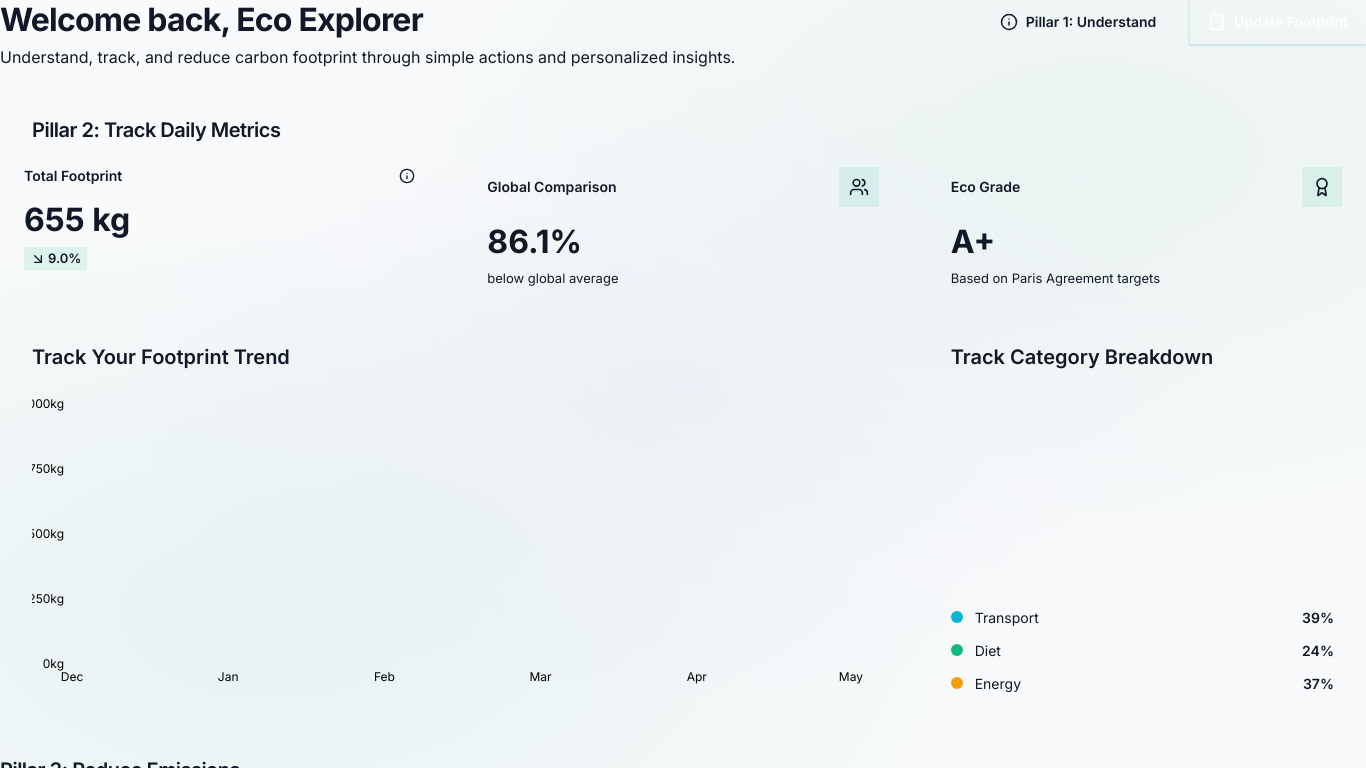
it: Dashboard Component › opens and closes the CarbonInfoModal
Click "Understand Equivalents"
Click the button "Pillar 1: Understand" at coordinates (1078, 22), box [982,0,1174,44]
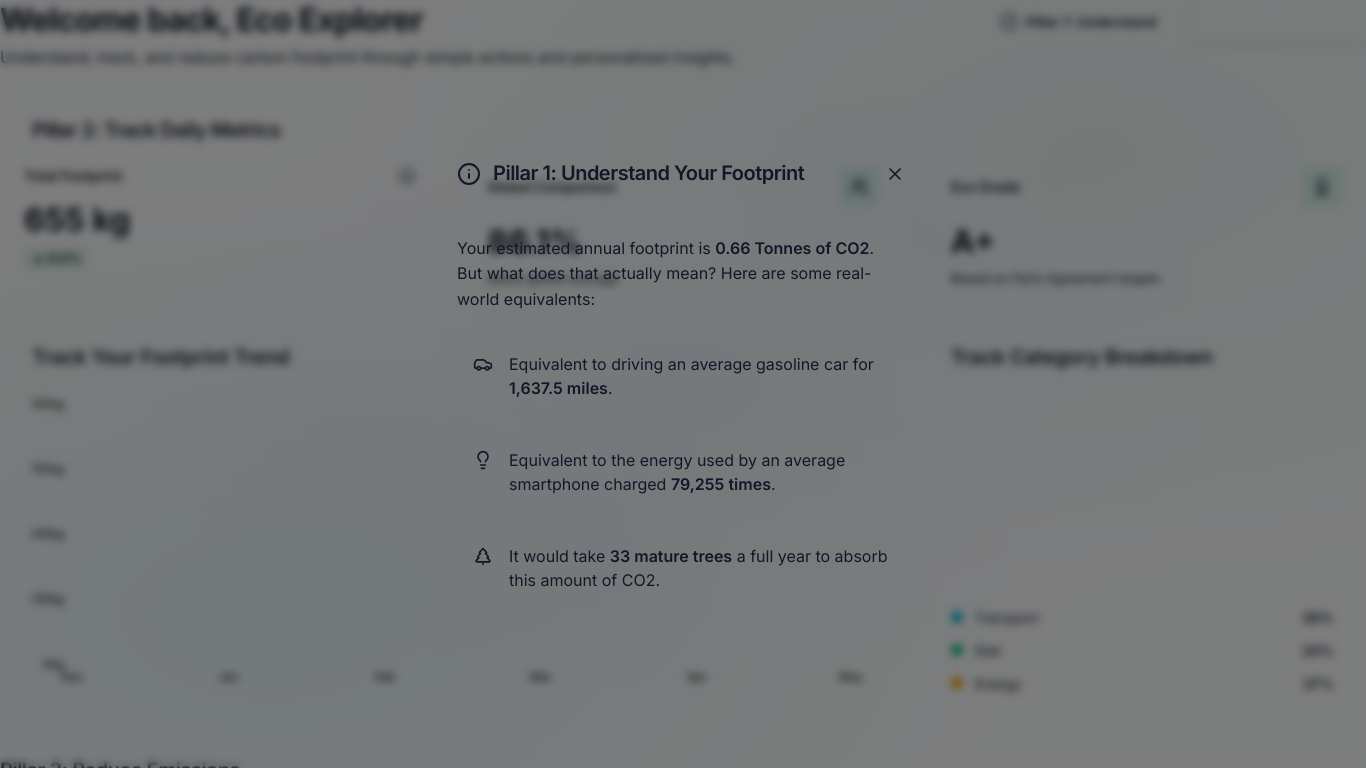
Expected: the dialog is shown
Expected: the heading "Pillar 1: Understand Your Footprint" is shown, [493,161,804,186]
Close modal
Click the button named "Close understand modal" at coordinates (895, 174), box [881,160,909,188]
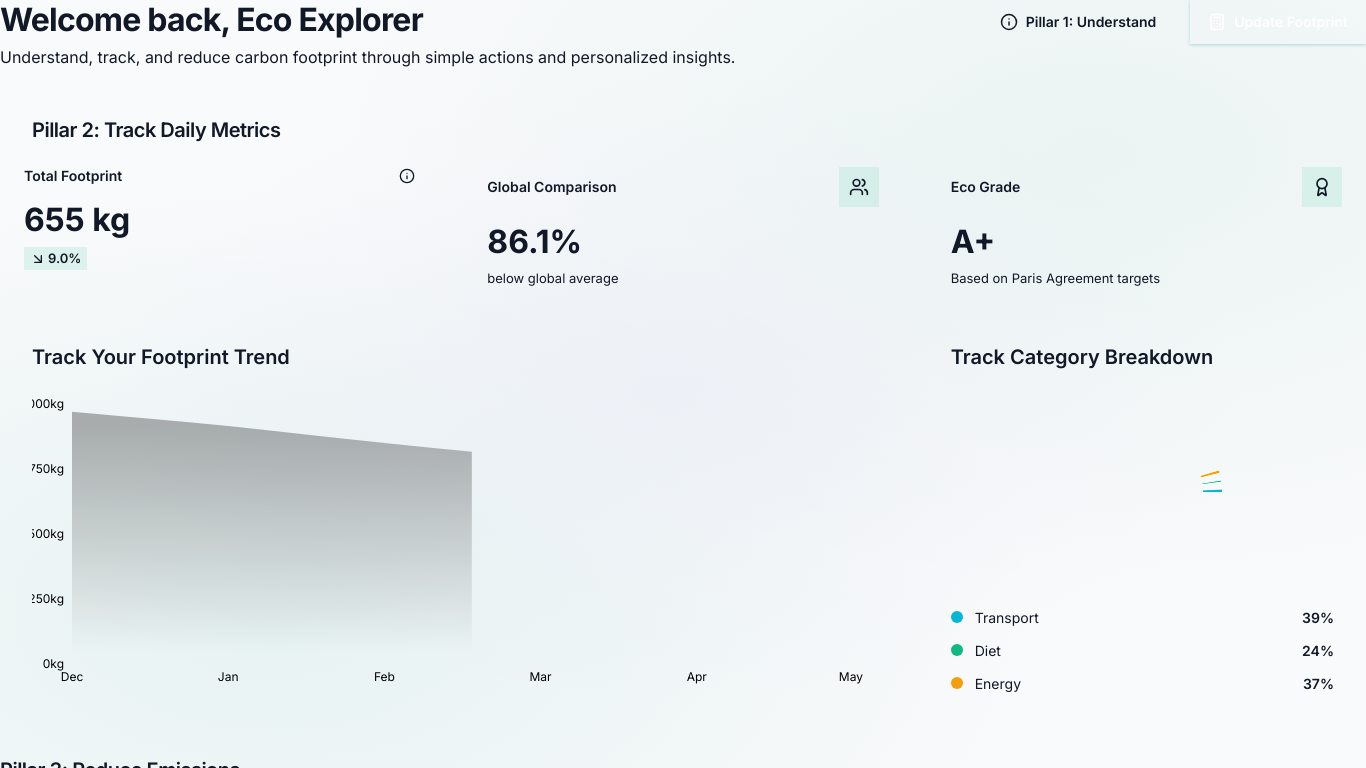
Expected: the dialog is gone
